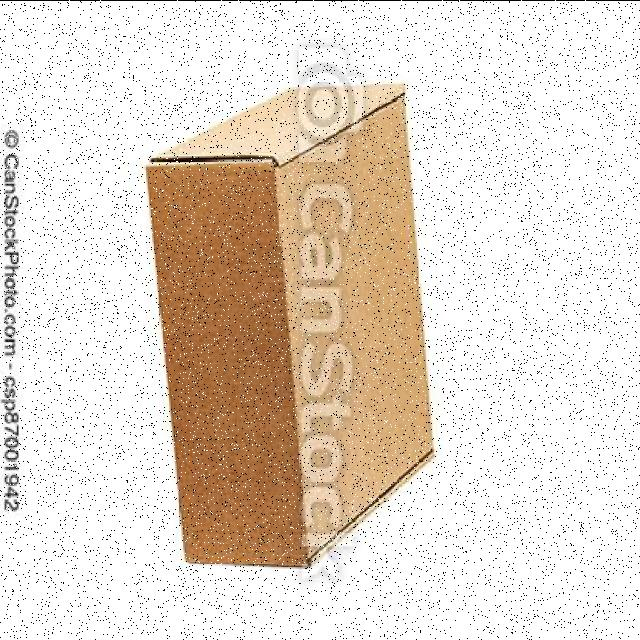normal: (144, 79, 448, 576)
